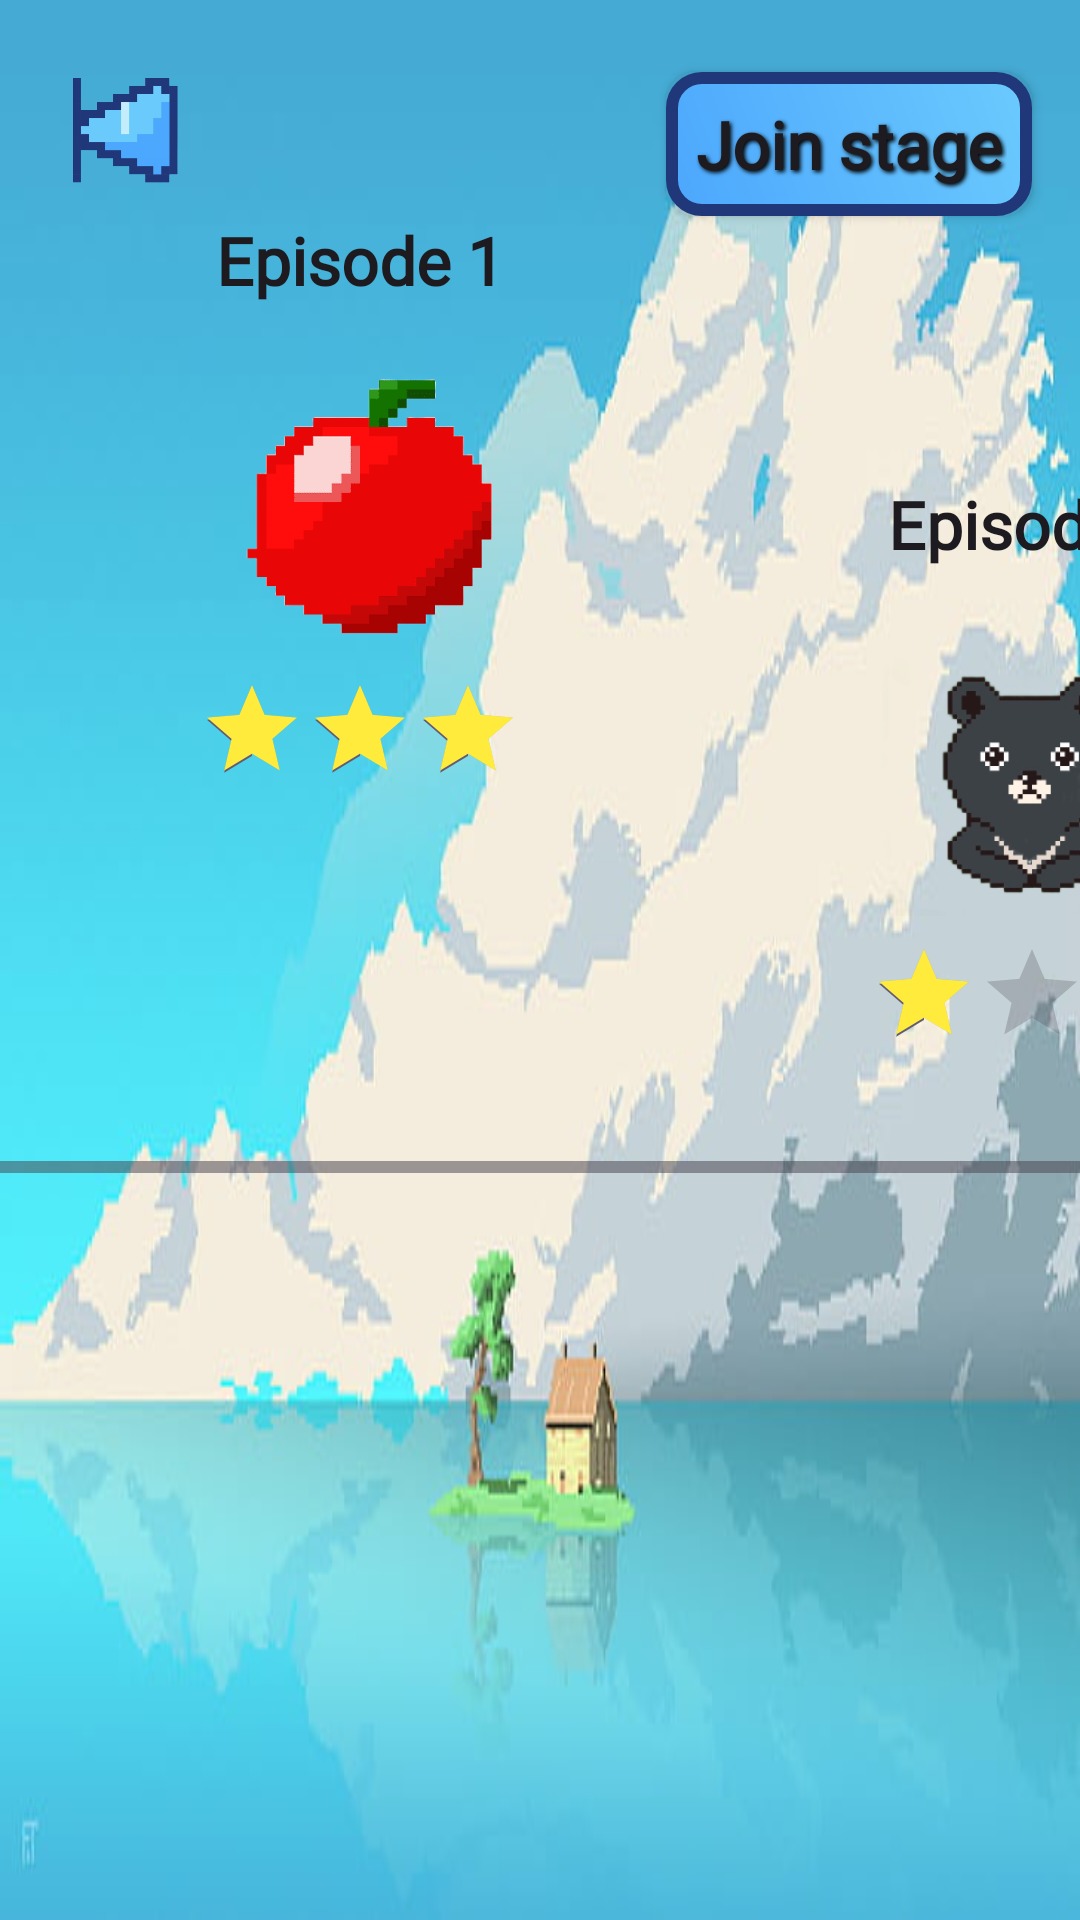

Icon click points for this 1080w x 1920h phone screenshot, format [x,y]:
apple: [378,515]
back: [125,130]
